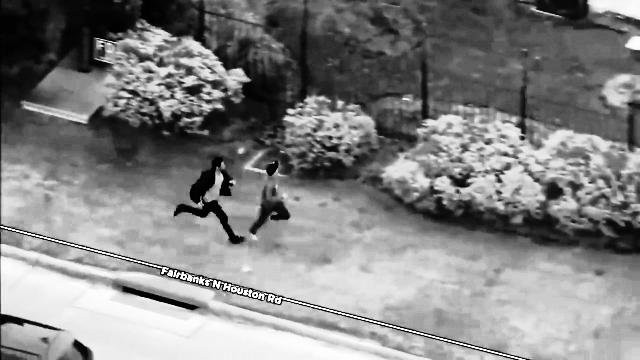berlari: (174, 155, 242, 255), (242, 158, 300, 244)
